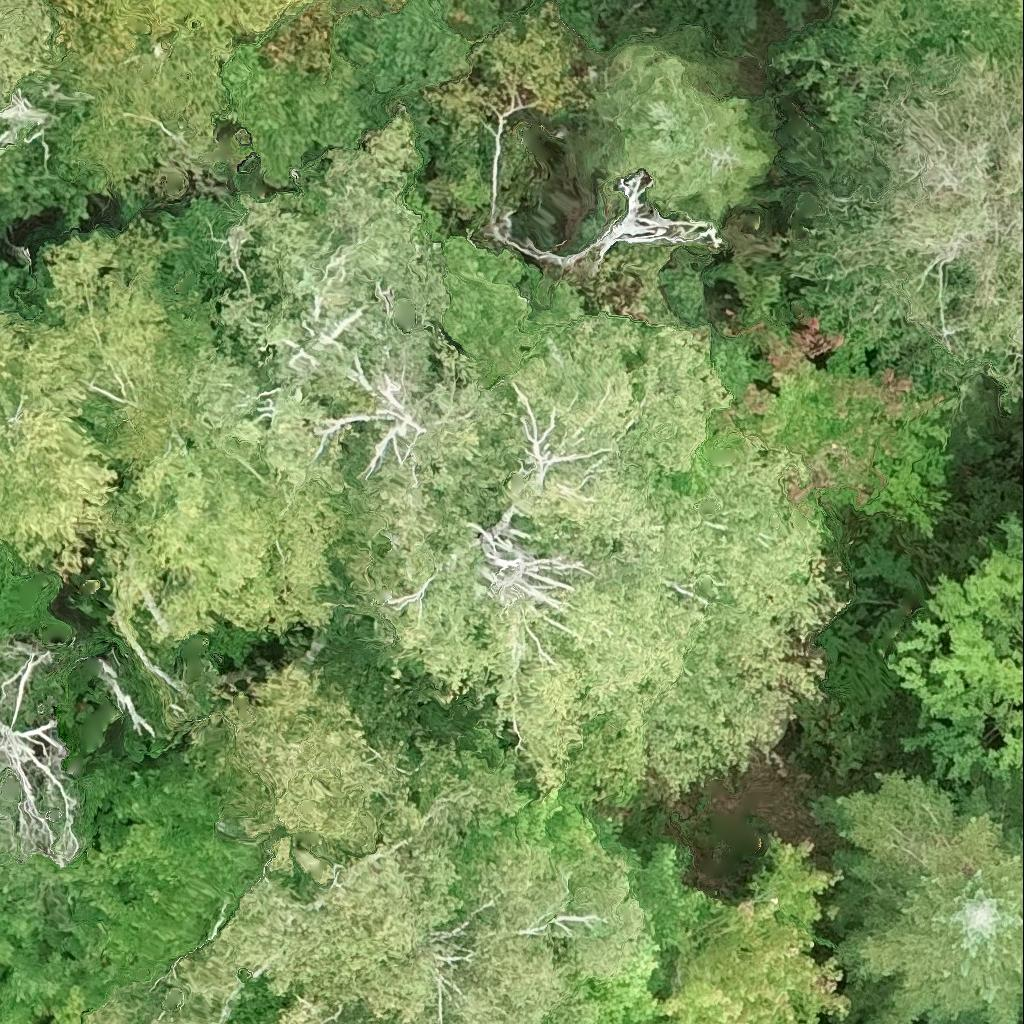crown: (341, 384, 858, 817), (81, 663, 519, 1023), (191, 112, 486, 589), (775, 0, 1023, 418), (41, 0, 405, 199), (0, 761, 272, 1023), (685, 277, 953, 536), (91, 395, 351, 641), (812, 769, 1023, 1023), (425, 780, 645, 1023), (41, 204, 228, 480), (490, 296, 732, 491), (888, 512, 1023, 787), (0, 624, 128, 903), (662, 834, 850, 1023), (591, 26, 772, 222), (0, 308, 130, 576), (0, 546, 83, 658), (582, 925, 667, 1023), (0, 0, 69, 113), (264, 990, 423, 1023), (0, 104, 28, 188), (47, 986, 104, 1023), (1003, 828, 1023, 858), (1013, 0, 1023, 26), (1022, 995, 1023, 1000)
